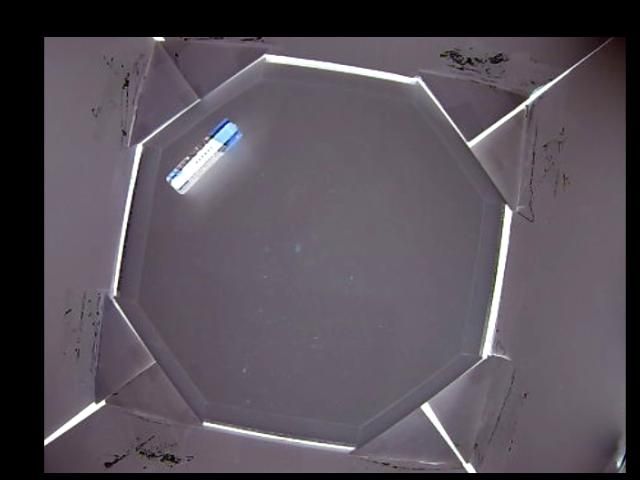Battery: (165, 115, 244, 193)
